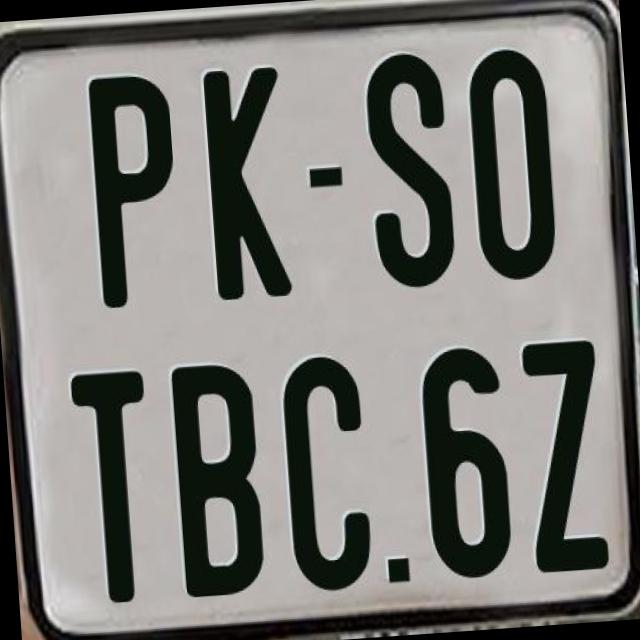0: (462, 44, 560, 280)
6: (416, 341, 518, 581)
B: (168, 360, 266, 604)
C: (280, 350, 374, 596)
K: (203, 66, 293, 301)
P: (88, 71, 188, 316)
S: (361, 45, 463, 290)
T: (70, 366, 162, 602)
Z: (518, 336, 612, 580)
